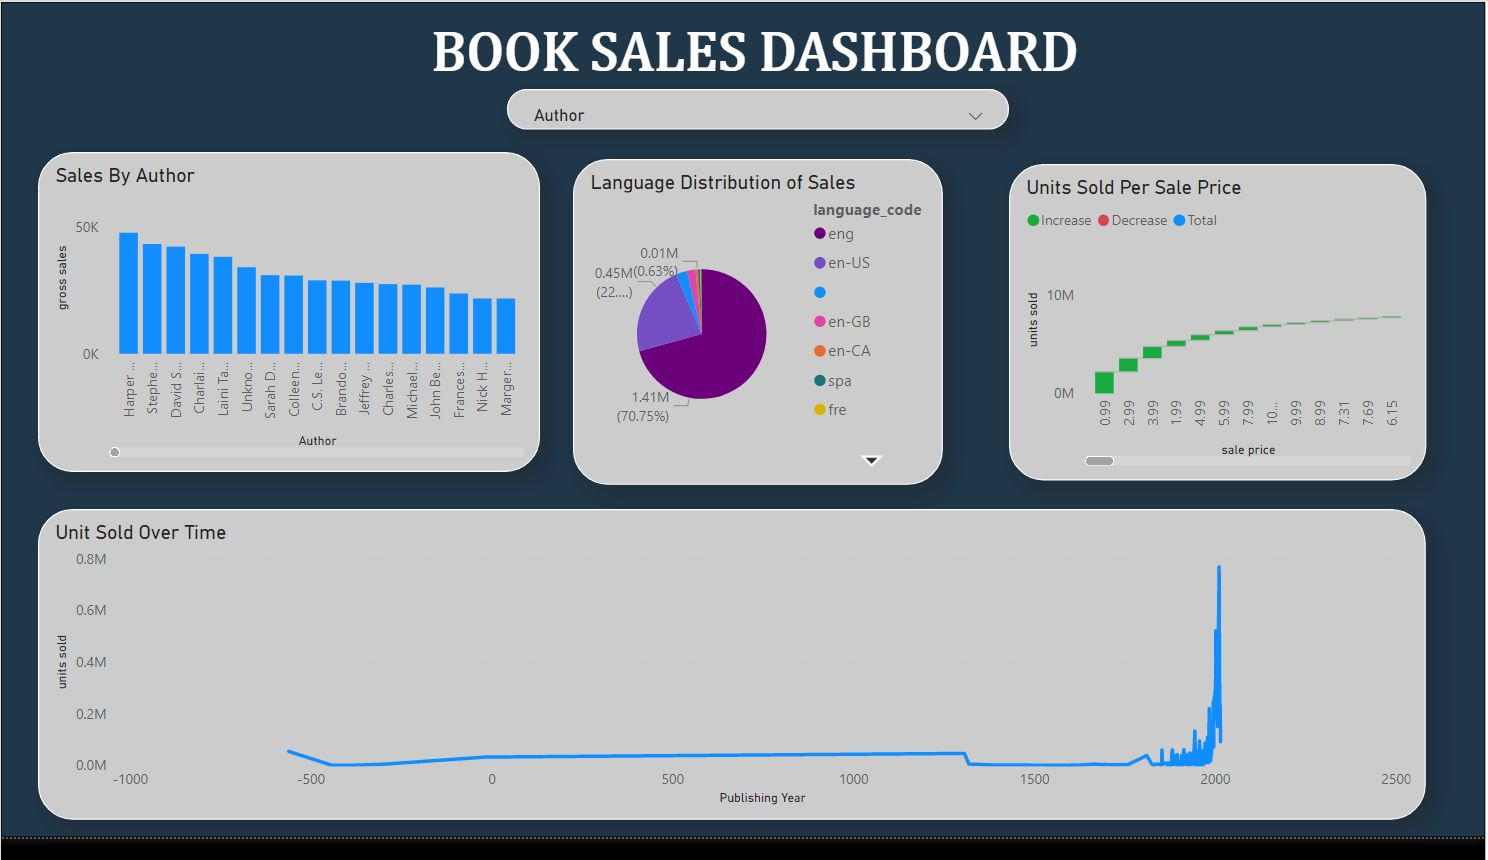

This screenshot's page, from the dashboard's own definition file:
{"tool":"powerbi","page":{"name":"Page 1","canvas":[1280,720],"ordinal":0},"visuals":[{"type":"clusteredColumnChart","title":"Sales By Author","fields":{"Category":["Books_Data_Clean.Author"],"Y":["Sum(Books_Data_Clean.gross sales)"]},"box":[31.9,129.4,433,276],"z":0},{"type":"lineChart","title":"Unit Sold Over Time","fields":{"Y":["Sum(Books_Data_Clean.units sold)"],"Category":["Books_Data_Clean.Publishing Year"]},"box":[31.9,437.3,1197.2,268.2],"z":1000},{"type":"pieChart","title":"Language Distribution of Sales","fields":{"Category":["Books_Data_Clean.language_code"],"Y":["Sum(Books_Data_Clean.gross sales)"]},"box":[493.4,135.4,319.1,281.2],"z":2000},{"type":"textbox","box":[365.7,13.8,778,71.6],"z":3000},{"type":"waterfallChart","title":"Units Sold Per Sale Price","fields":{"Category":["Books_Data_Clean.sale price"],"Y":["Sum(Books_Data_Clean.units sold)"]},"box":[869.4,139.7,359.7,272.6],"z":4000},{"type":"slicer","title":"Sales By Author","fields":{"Values":["Books_Data_Clean.Author"]},"box":[436.4,75,433,35.4],"z":5000}]}

Visuals, with their boxes in screenshot pixels (x1, y1, x2, y2), scaled from the page's 1280x720 canvas onto the 1488x860 screenshot:
"Sales By Author" clusteredColumnChart: 37 155 540 484
"Unit Sold Over Time" lineChart: 37 522 1429 843
"Language Distribution of Sales" pieChart: 574 162 945 498
textbox: 425 16 1330 102
"Units Sold Per Sale Price" waterfallChart: 1011 167 1429 492
"Sales By Author" slicer: 507 90 1011 132
